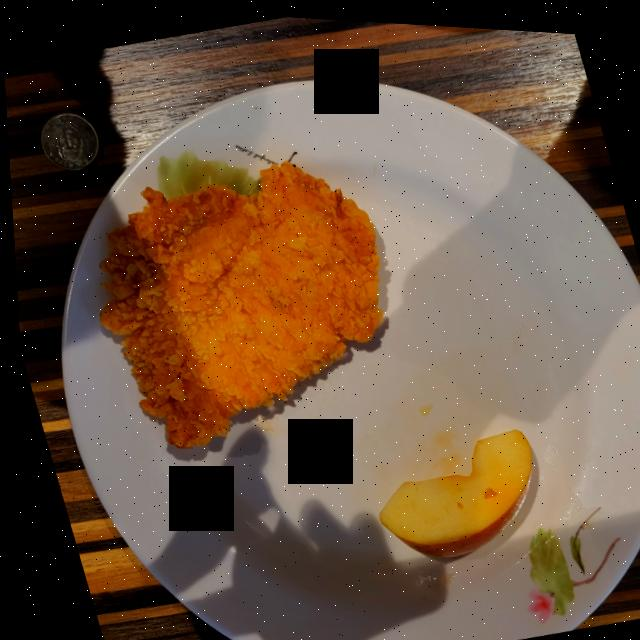apple -sliced-: (372, 424, 526, 552)
coin: (38, 111, 96, 170)
fried chicken cutlet: (95, 158, 378, 446)
